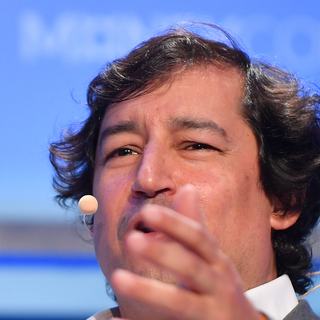eye: (171, 134, 226, 160), (97, 142, 142, 164)
